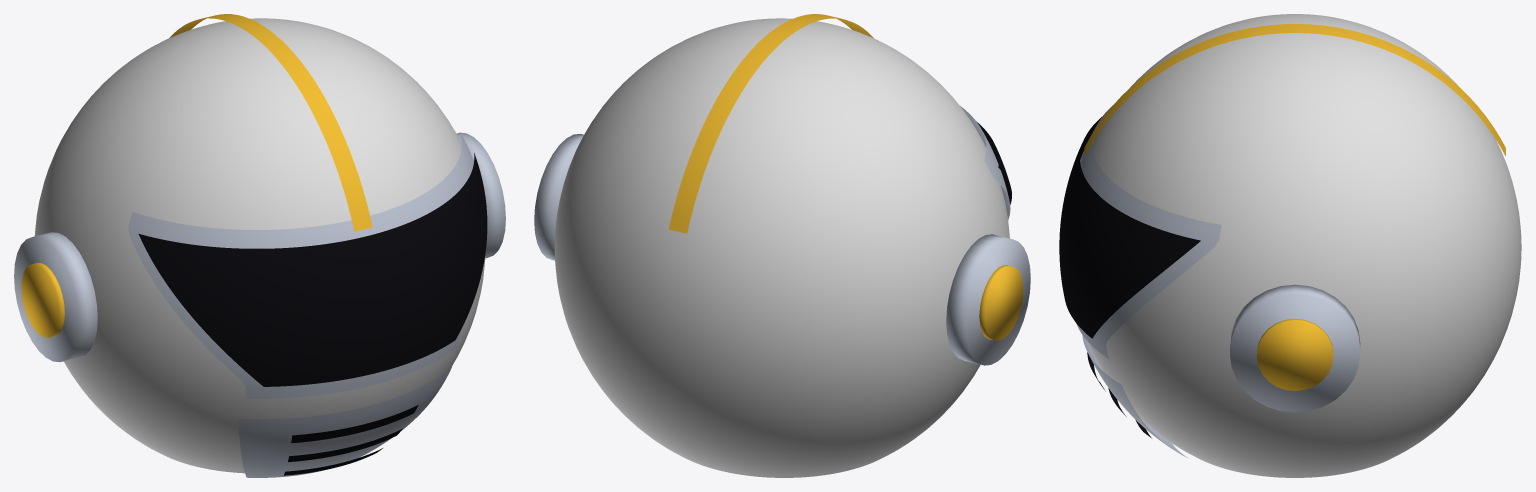
Rendered from helmet.obj.
3 renders of one model, left to right at view 1: azimuth 30°, elevation 25°; view 2: azimuth 150°, elevation 25°; view 3: azimuth 270°, elevation 25°, orthographic.
Bounding box in the file's own units: 0.672 × 0.5733 × 0.602.
